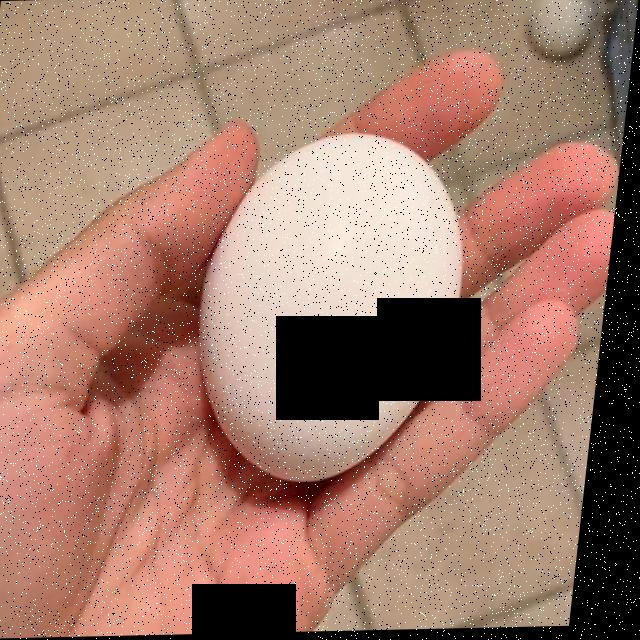egg: (208, 142, 470, 473)
